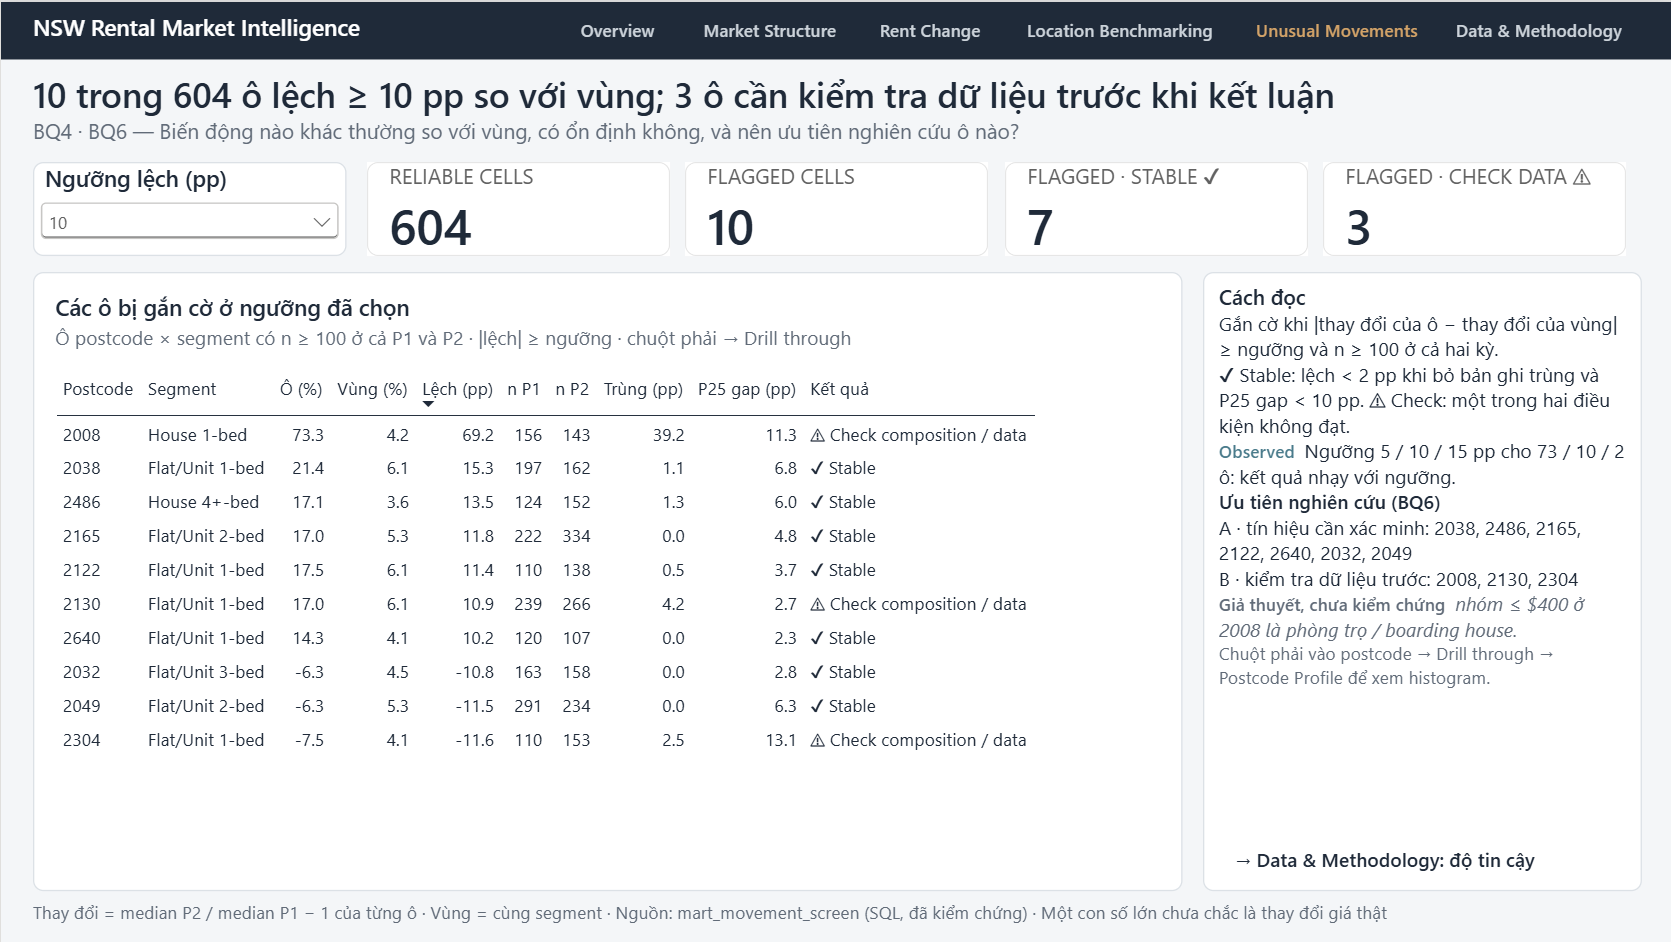

The page's visual inventory and layout, read from the dashboard file:
{"tool":"powerbi","page":{"name":"Unusual Movements","canvas":[1280,720],"ordinal":4},"visuals":[{"type":"textbox","box":[0,0,1280,44],"z":1000},{"type":"textbox","box":[24,8,380,30],"z":1001},{"type":"actionButton","box":[424,6,96,32],"z":1002},{"type":"actionButton","box":[520,6,136,32],"z":1002},{"type":"actionButton","box":[656,6,112,32],"z":1002},{"type":"actionButton","box":[768,6,176,32],"z":1002},{"type":"actionButton","box":[944,6,156,32],"z":1002},{"type":"actionButton","box":[1100,6,156,32],"z":1002},{"type":"textbox","box":[24,52,1232,36],"z":2000},{"type":"textbox","box":[24,88,1232,26],"z":2000},{"type":"slicer","fields":{"Values":["Threshold.threshold_pp"]},"box":[24,122,240,72],"z":3000},{"type":"cardVisual","fields":{"Data":["mart_movement_screen.Reliable Cells"]},"box":[280,122,232,72],"z":4000},{"type":"cardVisual","fields":{"Data":["mart_movement_screen.Flagged Cells"]},"box":[524,122,232,72],"z":4000},{"type":"cardVisual","fields":{"Data":["mart_movement_screen.Flagged Stable"]},"box":[768,122,232,72],"z":4000},{"type":"cardVisual","fields":{"Data":["mart_movement_screen.Flagged Check"]},"box":[1012,122,232,72],"z":4000},{"type":"tableEx","title":"Các ô bị gắn cờ ở ngưỡng đã chọn","fields":{"Values":["dim_postcode.postcode","dim_segment.segment_label","mart_movement_screen.change_pct","mart_movement_screen.region_change_pct","mart_movement_screen.deviation_pp","mart_movement_screen.n_p1","mart_movement_screen.n_p2","mart_movement_screen.dup_sensitivity_pp","mart_movement_screen.p25_gap_pp","mart_movement_screen.Screen Status"]},"box":[24,206,880,474],"z":5000},{"type":"textbox","box":[920,206,336,474],"z":6000},{"type":"textbox","box":[932,214,312,458],"z":6001},{"type":"actionButton","box":[932,640,312,28],"z":6002},{"type":"textbox","box":[24,688,1232,26],"z":30000}]}

Visuals, with their boxes in screenshot pixels (x1, y1, x2, y2), scaled from the page's 1280x720 canvas onto the 1671x942 screenshot:
textbox: {"left": 0, "top": 0, "right": 1670, "bottom": 58}
textbox: {"left": 31, "top": 10, "right": 527, "bottom": 50}
actionButton: {"left": 554, "top": 8, "right": 679, "bottom": 50}
actionButton: {"left": 679, "top": 8, "right": 856, "bottom": 50}
actionButton: {"left": 856, "top": 8, "right": 1003, "bottom": 50}
actionButton: {"left": 1003, "top": 8, "right": 1232, "bottom": 50}
actionButton: {"left": 1232, "top": 8, "right": 1436, "bottom": 50}
actionButton: {"left": 1436, "top": 8, "right": 1640, "bottom": 50}
textbox: {"left": 31, "top": 68, "right": 1640, "bottom": 115}
textbox: {"left": 31, "top": 115, "right": 1640, "bottom": 149}
slicer - Threshold.threshold_pp: {"left": 31, "top": 160, "right": 345, "bottom": 254}
cardVisual - mart_movement_screen.Reliable Cells: {"left": 366, "top": 160, "right": 668, "bottom": 254}
cardVisual - mart_movement_screen.Flagged Cells: {"left": 684, "top": 160, "right": 987, "bottom": 254}
cardVisual - mart_movement_screen.Flagged Stable: {"left": 1003, "top": 160, "right": 1305, "bottom": 254}
cardVisual - mart_movement_screen.Flagged Check: {"left": 1321, "top": 160, "right": 1624, "bottom": 254}
"Các ô bị gắn cờ ở ngưỡng đã chọn" tableEx: {"left": 31, "top": 270, "right": 1180, "bottom": 890}
textbox: {"left": 1201, "top": 270, "right": 1640, "bottom": 890}
textbox: {"left": 1217, "top": 280, "right": 1624, "bottom": 879}
actionButton: {"left": 1217, "top": 837, "right": 1624, "bottom": 874}
textbox: {"left": 31, "top": 900, "right": 1640, "bottom": 934}
